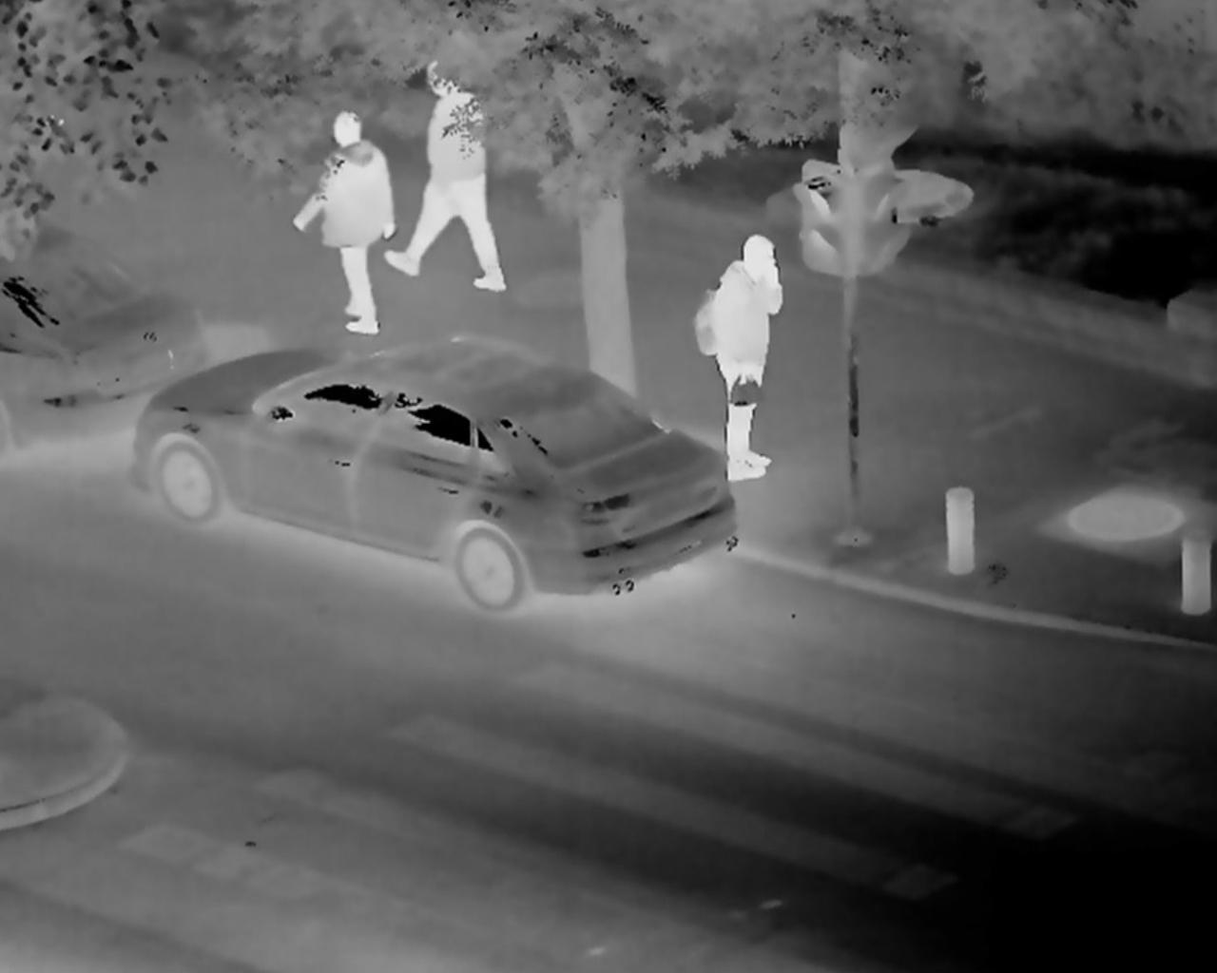person: (390, 63, 512, 294), (289, 108, 400, 350), (689, 230, 783, 487)
